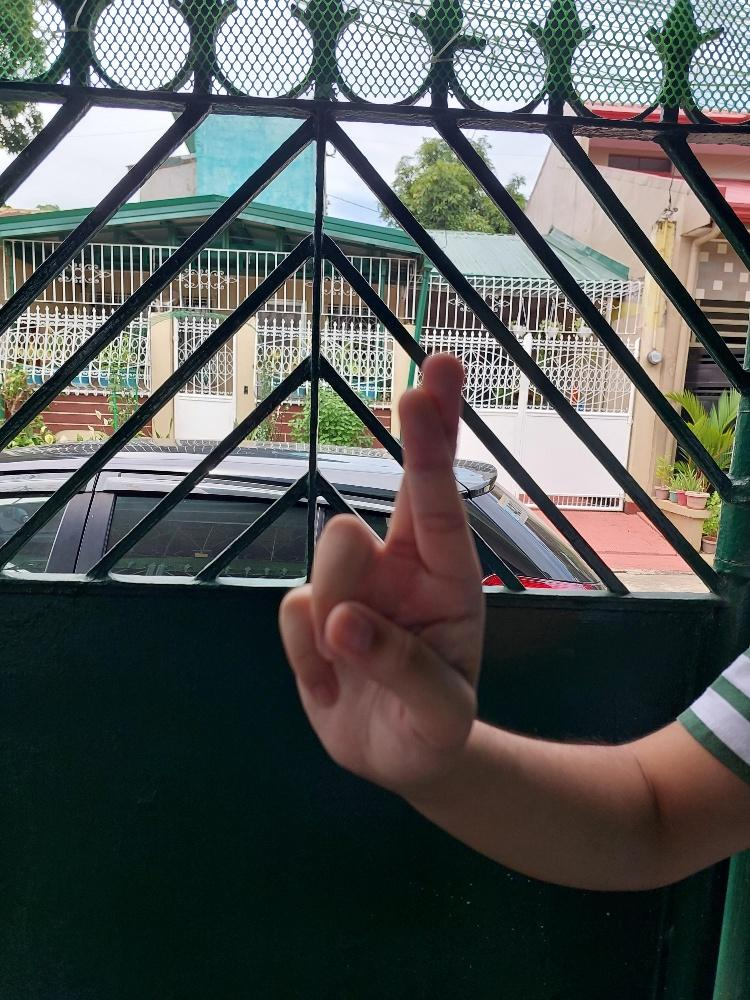r: (274, 348, 491, 787)
